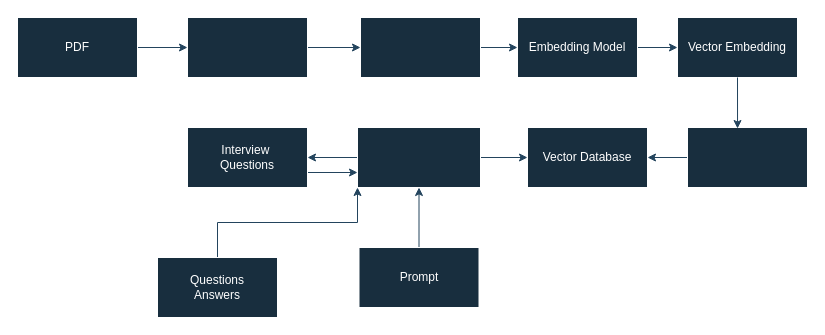
Some shapes in this 825 by 335 pixel diagram are drawn without their labels. Here are the shapes that lost their labels. From the top down, the centre of each, then its label:
the point at 247,47: Extract Docs
the point at 420,47: Chunks
the point at 418,157: LLM
the point at 747,157: Sementic Search
